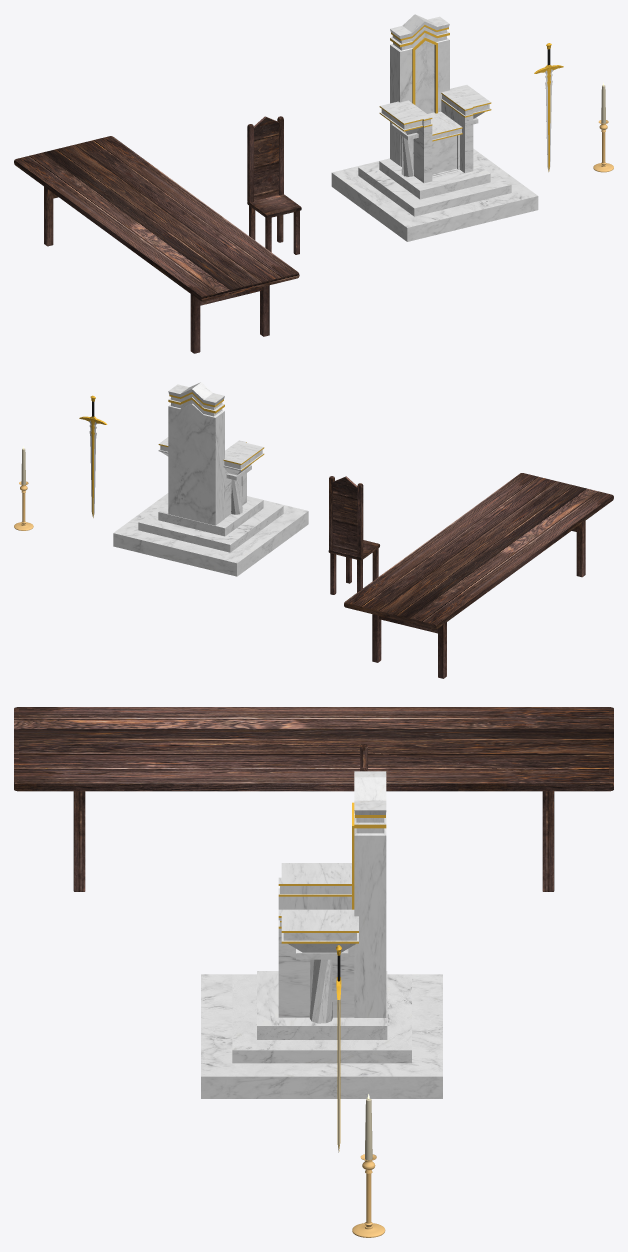
The model's file is royal-room.glb.
3 renders of one model, top to bottom at view 1: azimuth 30°, elevation 25°; view 2: azimuth 150°, elevation 25°; view 3: azimuth 270°, elevation 25°, orthographic. The views are drawn at different scales.
Visible parts, largest first — view 1: Object_16, Object_4, Object_5; view 2: Object_16, Object_4, Object_5; view 3: Object_16, Object_4, Object_5, Object_12, Object_8.
Boxes of the visible parts, <box> form: Object_16: <box>14,116,301,353</box>; Object_4: <box>331,14,538,241</box>; Object_5: <box>379,25,491,141</box>; Object_16: <box>328,473,613,678</box>; Object_4: <box>113,382,308,576</box>; Object_5: <box>158,392,264,470</box>; Object_16: <box>14,707,613,891</box>; Object_4: <box>201,771,442,1098</box>; Object_5: <box>278,802,386,943</box>; Object_12: <box>352,1154,385,1237</box>; Object_8: <box>336,945,341,1151</box>.
Bounding box in the file's own units: 29.78 × 10.6 × 18.55.
Materials: 10 (2 with a texture image).
